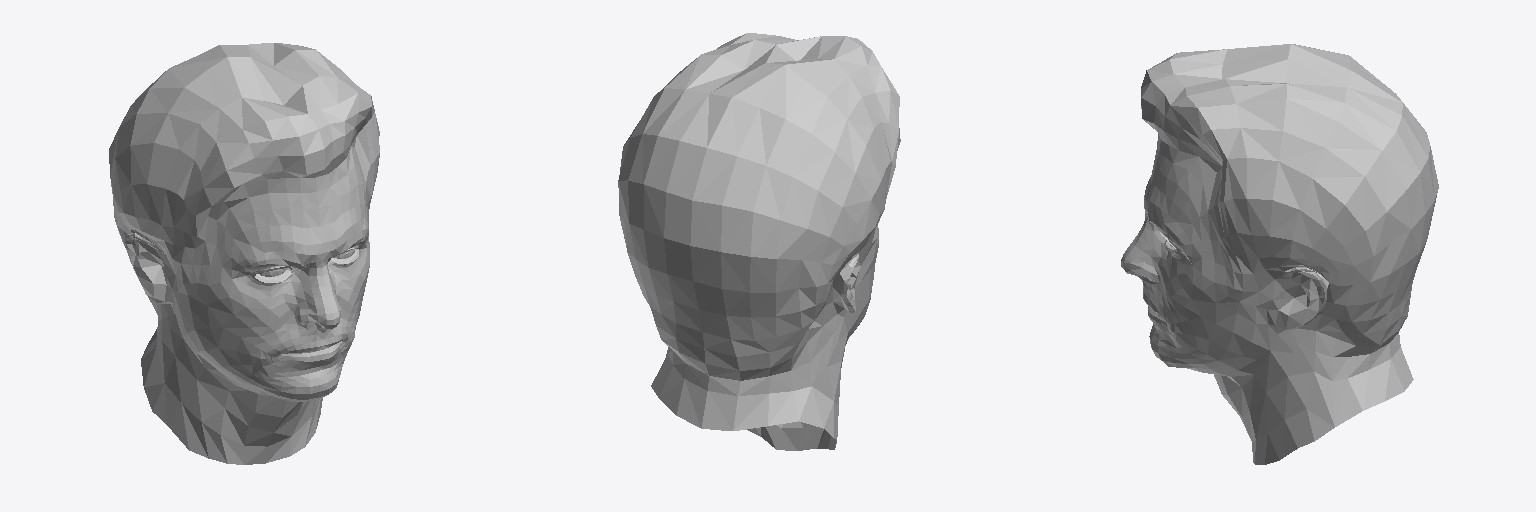
The model's file is lebek.obj.
The picture shows the model from 3 angles: view 1: azimuth 30°, elevation 25°; view 2: azimuth 150°, elevation 25°; view 3: azimuth 270°, elevation 25°; orthographic projection.
Visible parts, largest first — view 1: theillusiveman_illHead; view 2: theillusiveman_illHead; view 3: theillusiveman_illHead.
Boxes of the visible parts, x1=… form: theillusiveman_illHead: x1=109, y1=43, x2=379, y2=464; theillusiveman_illHead: x1=618, y1=33, x2=900, y2=450; theillusiveman_illHead: x1=1121, y1=44, x2=1438, y2=464.
Size of the model in its own units: 7.3 by 12.27 by 8.8.